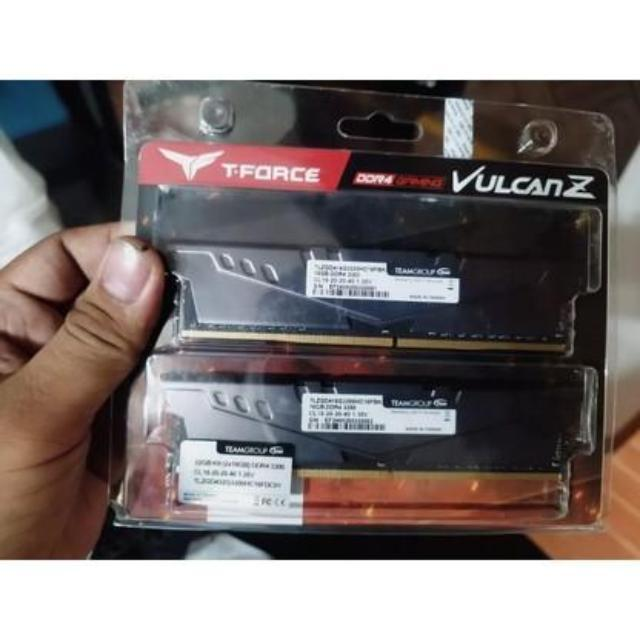RAM: (158, 234, 576, 357), (153, 370, 564, 484)
